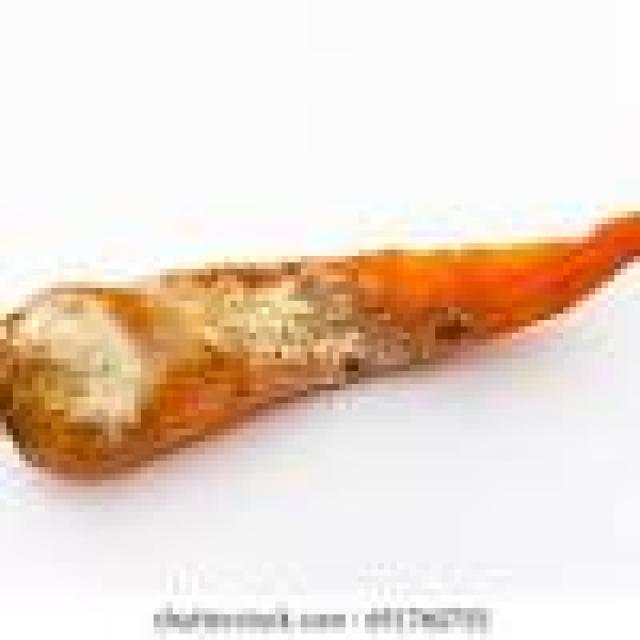Stale_Carrot: (0, 241, 363, 460)
